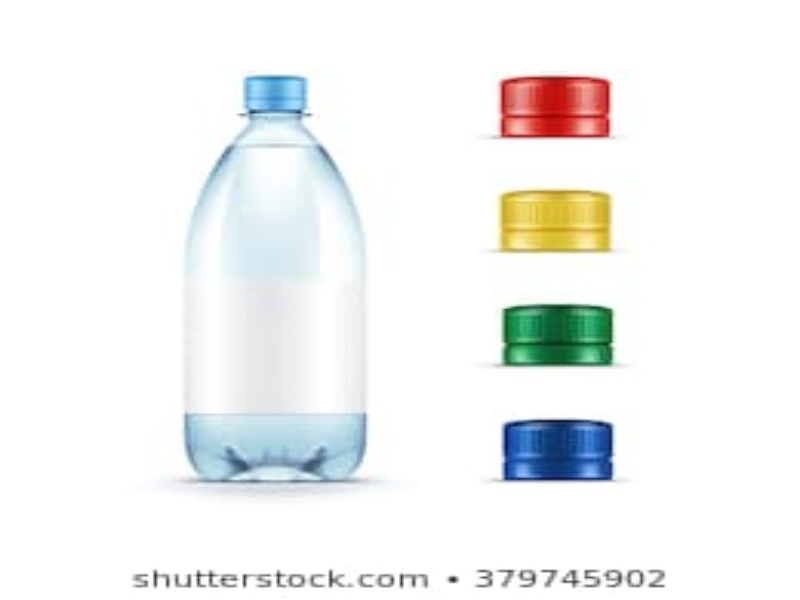bottle-cap: (495, 75, 617, 141), (495, 416, 617, 482), (496, 302, 618, 368), (493, 187, 615, 253), (232, 74, 314, 116)
plastic-bottle: (179, 71, 370, 483)
